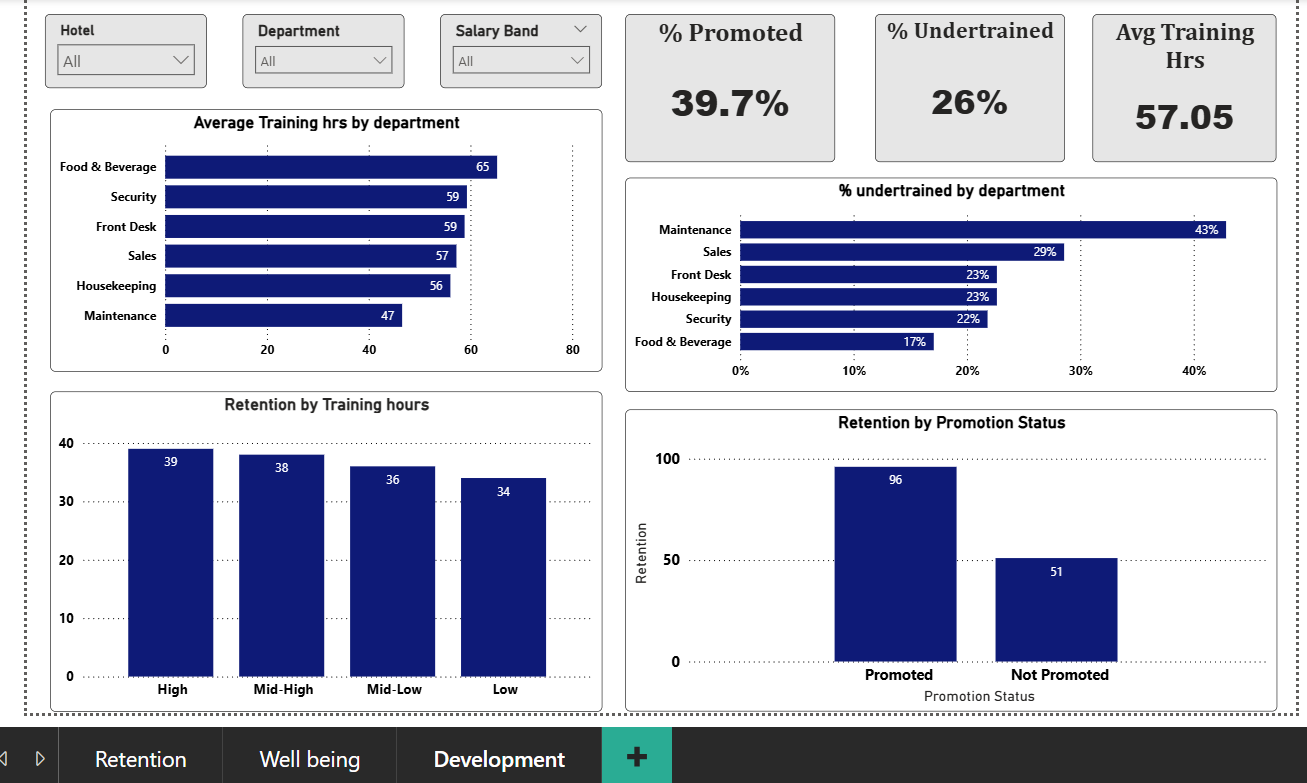

Layout of this report page (visuals, bound fields, positions):
{"tool":"powerbi","page":{"name":"Development","canvas":[1280,720],"ordinal":2},"visuals":[{"type":"slicer","fields":{"Values":["hospitality.hotel_name"]},"box":[18.1,16.1,163.3,74.6],"z":0},{"type":"slicer","fields":{"Values":["hospitality.department"]},"box":[217.8,16.1,163.3,74.6],"z":1000},{"type":"slicer","fields":{"Values":["hospitality.salary_band"]},"box":[417.4,16.1,163.3,74.6],"z":2000},{"type":"card","title":"% Promoted","fields":{"Values":["All Measures.% Promototed"]},"box":[602.9,16.1,211.7,149.2],"z":3000},{"type":"card","title":"Avg Training Hrs","fields":{"Values":["All Measures.Average Training hrs"]},"box":[1074.7,16.1,185.5,149.2],"z":4000},{"type":"card","title":"% Undertrained","fields":{"Values":["All Measures.% undertrained"]},"box":[854.9,16.1,191.5,149.2],"z":6000},{"type":"clusteredColumnChart","fields":{"Category":["hospitality.Training hours "],"Y":["All Measures.Retention"]},"box":[24.2,397.2,556.5,322.6],"z":7000},{"type":"clusteredBarChart","fields":{"Category":["hospitality.department"],"Y":["All Measures.Average Training hrs"]},"box":[24.2,112.9,556.5,264.1],"z":8000},{"type":"clusteredBarChart","fields":{"Category":["hospitality.department"],"Y":["All Measures.% undertrained"]},"box":[602.9,181.5,657.3,215.7],"z":10000},{"type":"clusteredColumnChart","fields":{"Y":["All Measures.Retention"],"Category":["hospitality.Promotion Status"]},"box":[602.9,415.3,657.3,304.5],"z":10001}]}

Visuals, with their boxes on the page's 1280x720 design canvas (x1, y1, x2, y2). These are canvas units, not pixel positions in the 1307x783 screenshot, which may show the page scaled, cropped or inside an application window:
slicer - hospitality.hotel_name: 18/16/181/91
slicer - hospitality.department: 218/16/381/91
slicer - hospitality.salary_band: 417/16/581/91
"% Promoted" card: 603/16/815/165
"Avg Training Hrs" card: 1075/16/1260/165
"% Undertrained" card: 855/16/1046/165
clusteredColumnChart - hospitality.Training hours  x All Measures.Retention: 24/397/581/720
clusteredBarChart - hospitality.department x All Measures.Average Training hrs: 24/113/581/377
clusteredBarChart - hospitality.department x All Measures.% undertrained: 603/182/1260/397
clusteredColumnChart - All Measures.Retention x hospitality.Promotion Status: 603/415/1260/720
